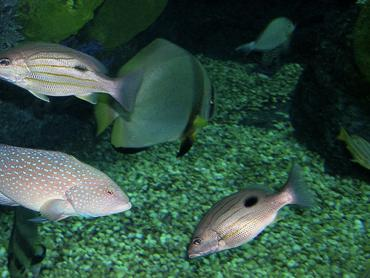Lutjanidae -Snappers-: (183, 152, 335, 262), (0, 35, 143, 120)
Serranidae -Groupers-: (0, 138, 135, 227)
